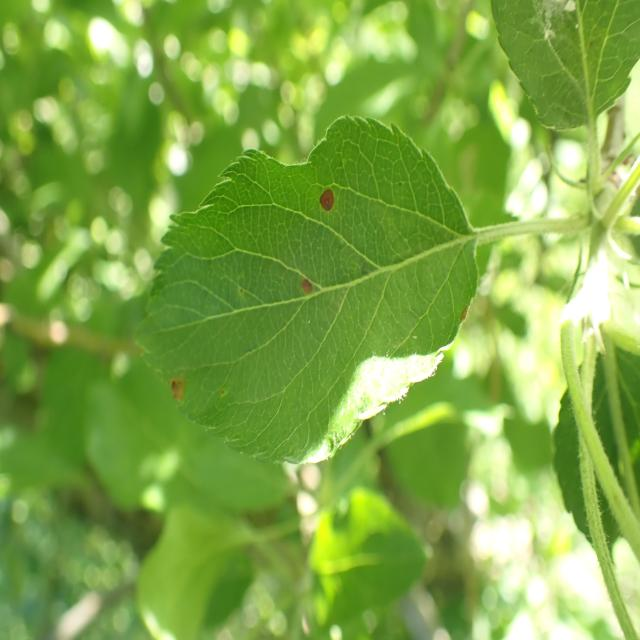Black Rot: (310, 143, 348, 242), (162, 361, 203, 419), (293, 265, 321, 327)
